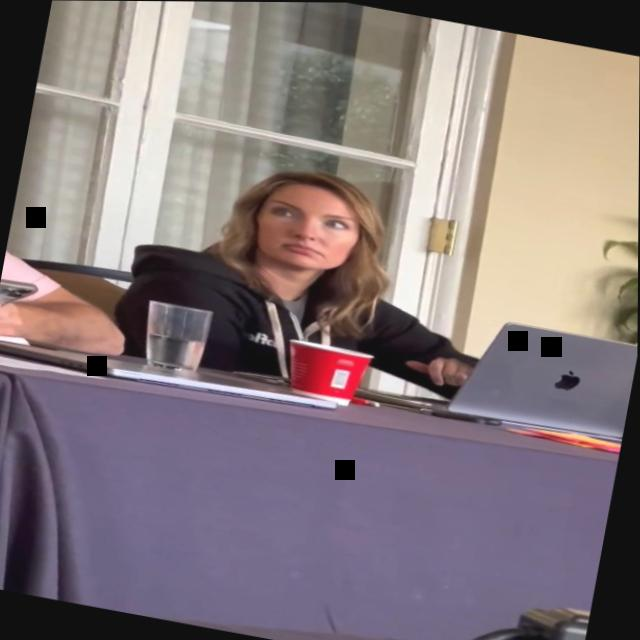NO-Mask: (239, 173, 370, 289)
